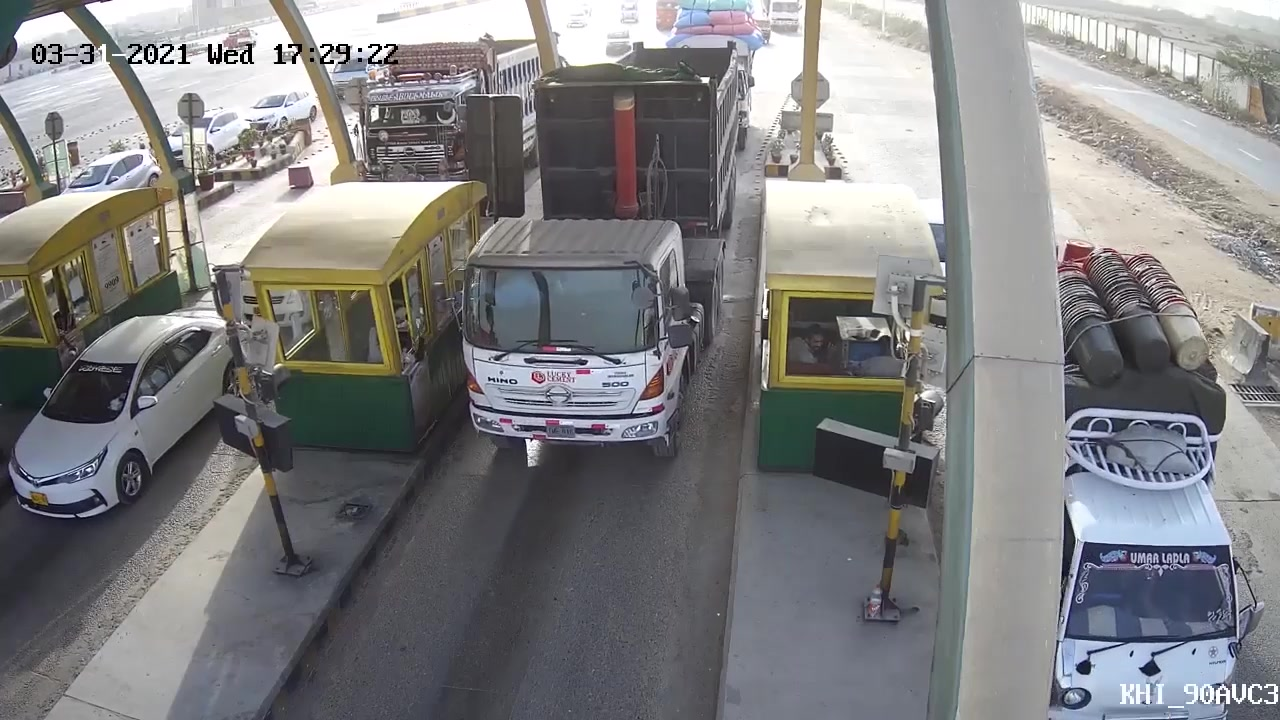F6: (421, 82, 740, 477)
